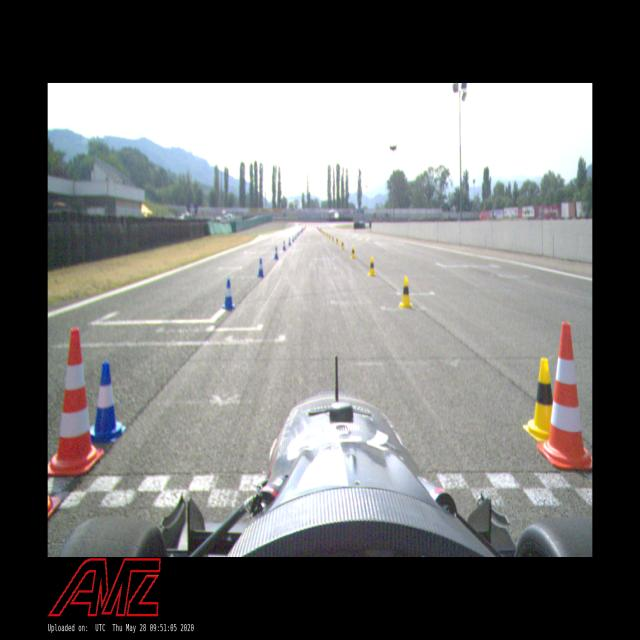blue_cone: (87, 360, 127, 444), (222, 278, 236, 310), (256, 257, 264, 278), (274, 246, 280, 260), (282, 241, 286, 251), (288, 237, 291, 245), (292, 234, 294, 242), (294, 233, 296, 240)
large_orange_cone: (535, 322, 591, 471), (48, 327, 104, 475)
yellow_cone: (523, 359, 554, 442), (399, 276, 413, 308), (368, 256, 376, 277), (350, 246, 356, 258), (335, 236, 339, 245), (341, 239, 344, 249), (332, 234, 334, 242), (329, 233, 330, 239), (327, 232, 328, 238)
